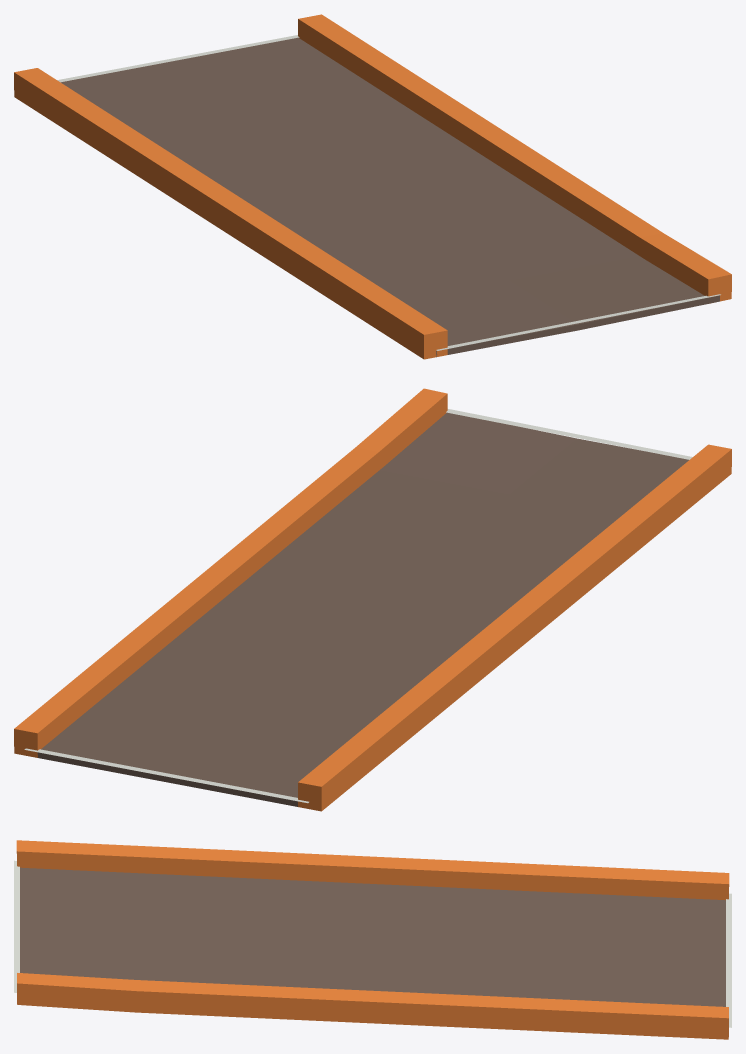
Rendered from SM_MP_Film_A_2_3.fbx.
3 renders of one model, top to bottom at view 1: azimuth 30°, elevation 25°; view 2: azimuth 150°, elevation 25°; view 3: azimuth 270°, elevation 25°, orthographic. The views are drawn at different scales.
Visible parts, largest first — view 1: SM_MP_Film_A_2_3; view 2: SM_MP_Film_A_2_3; view 3: SM_MP_Film_A_2_3.
Boxes of the visible parts, box(x1,y1,x2,y2) form: SM_MP_Film_A_2_3: box(14, 14, 731, 359); SM_MP_Film_A_2_3: box(14, 388, 731, 811); SM_MP_Film_A_2_3: box(14, 840, 731, 1039).
Size of what is drawn, in the model's own units: 260 by 605 by 64.27.
